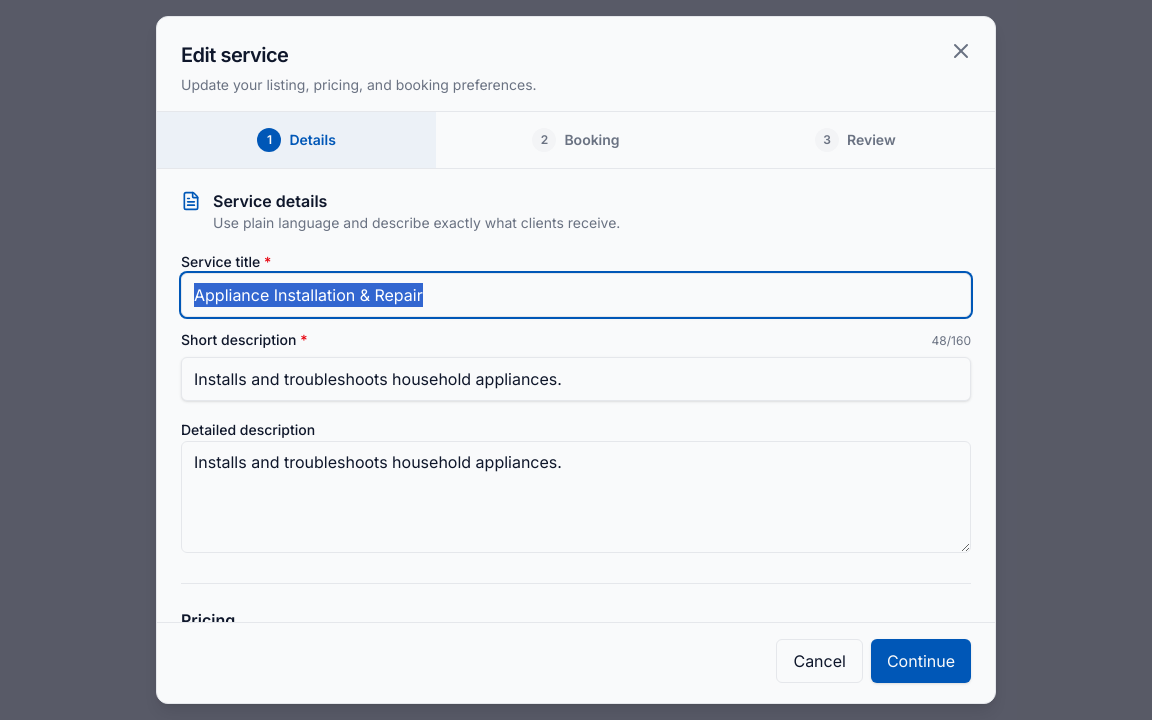
Scenario: ProfileEditModal › validates required details before saving
The image size is (1152, 720).
Clear the field labelled "Service title *": (576, 295) [181,273,971,317]
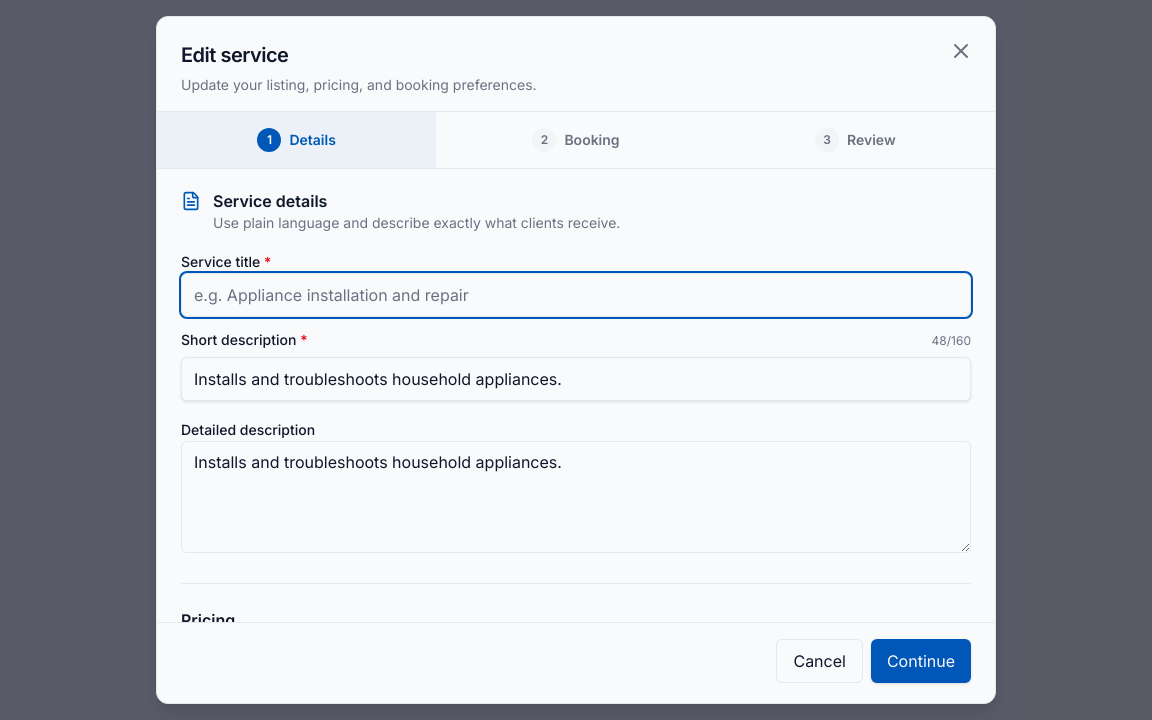
Click the button "Continue": (921, 661) [871,639,971,683]
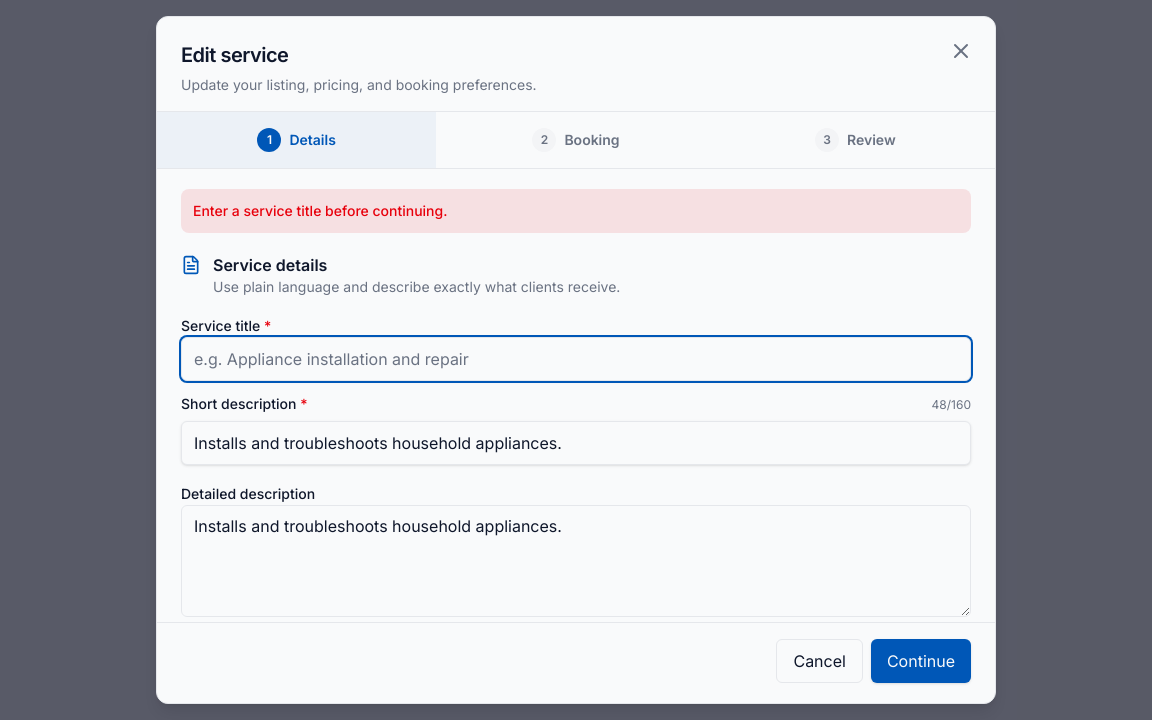
Expected: the message shows "Enter a service title", [193,202,448,219]
